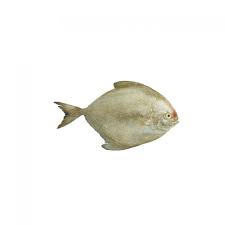Ikan Bawal: (51, 75, 184, 158)
